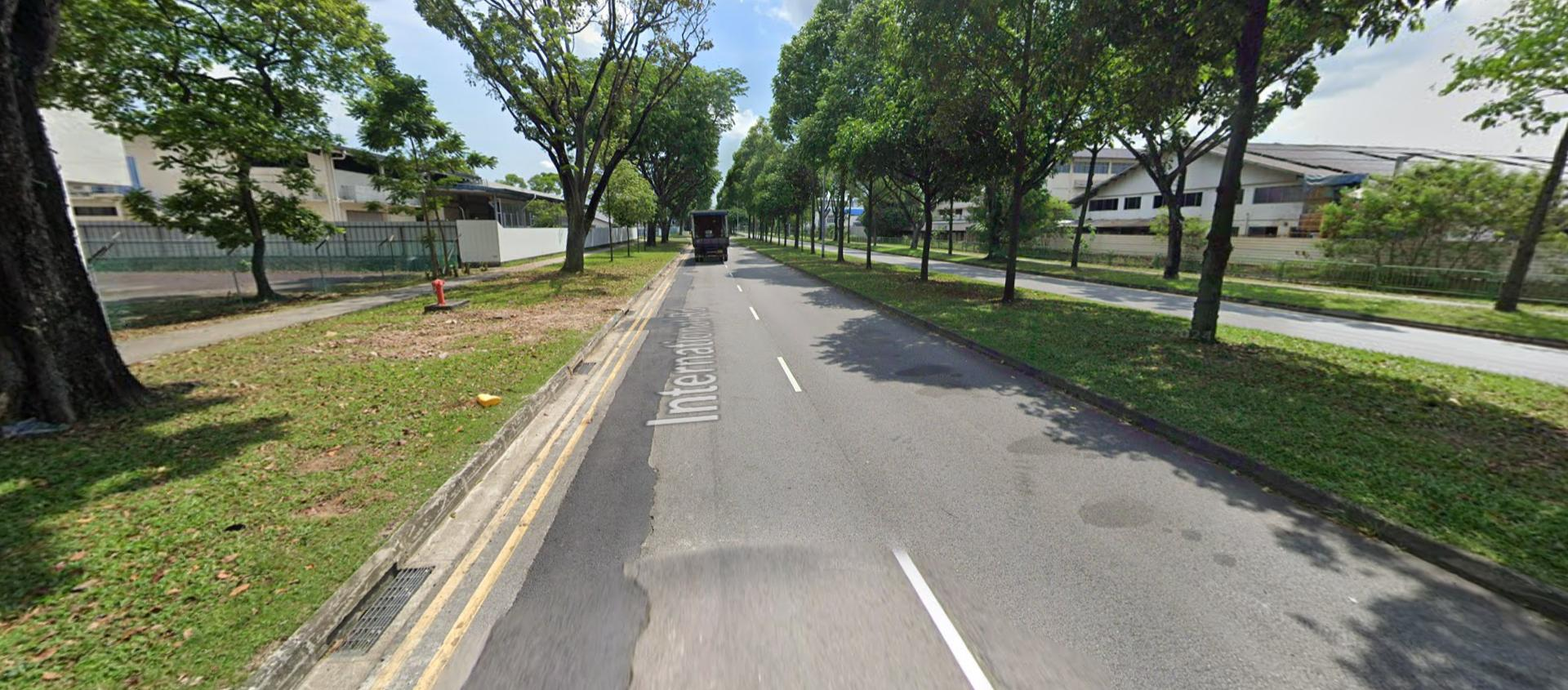defect: (325, 566, 436, 658)
